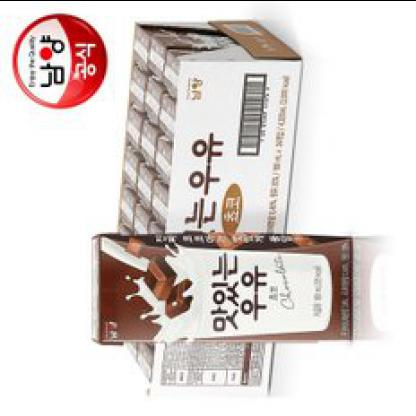tetra: (80, 217, 368, 353)
